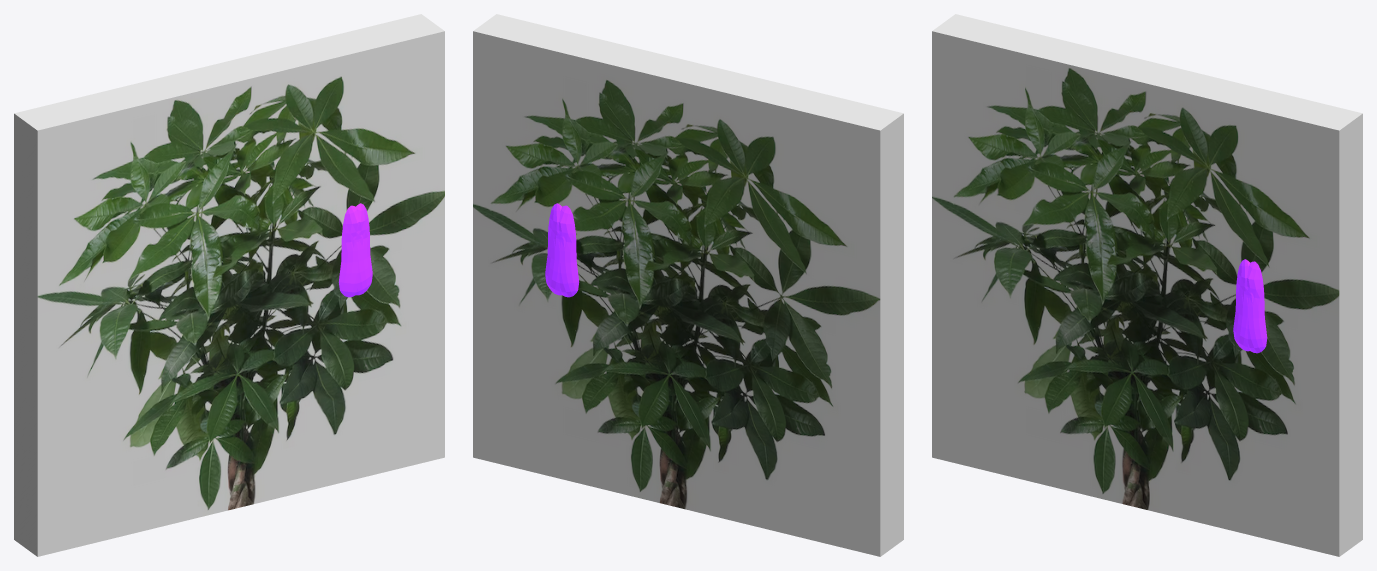
The model's file is eggplant_7.dae.
3 views of the same model, side by side, from view 1: azimuth 30°, elevation 25°; view 2: azimuth 150°, elevation 25°; view 3: azimuth 330°, elevation 25° (orthographic).
Visible parts, largest first — view 1: Cube, Sphere; view 2: Cube, Sphere; view 3: Cube, Sphere.
Part boxes in pixels (x1,y1,x2,y2): Cube: [14, 14, 444, 556]; Sphere: [338, 203, 372, 297]; Cube: [473, 14, 903, 556]; Sphere: [545, 203, 579, 297]; Cube: [932, 14, 1362, 556]; Sphere: [1233, 259, 1267, 353].
Size of the model in its own units: 1 by 0.1301 by 1.
Materials: 2 (1 with a texture image).
